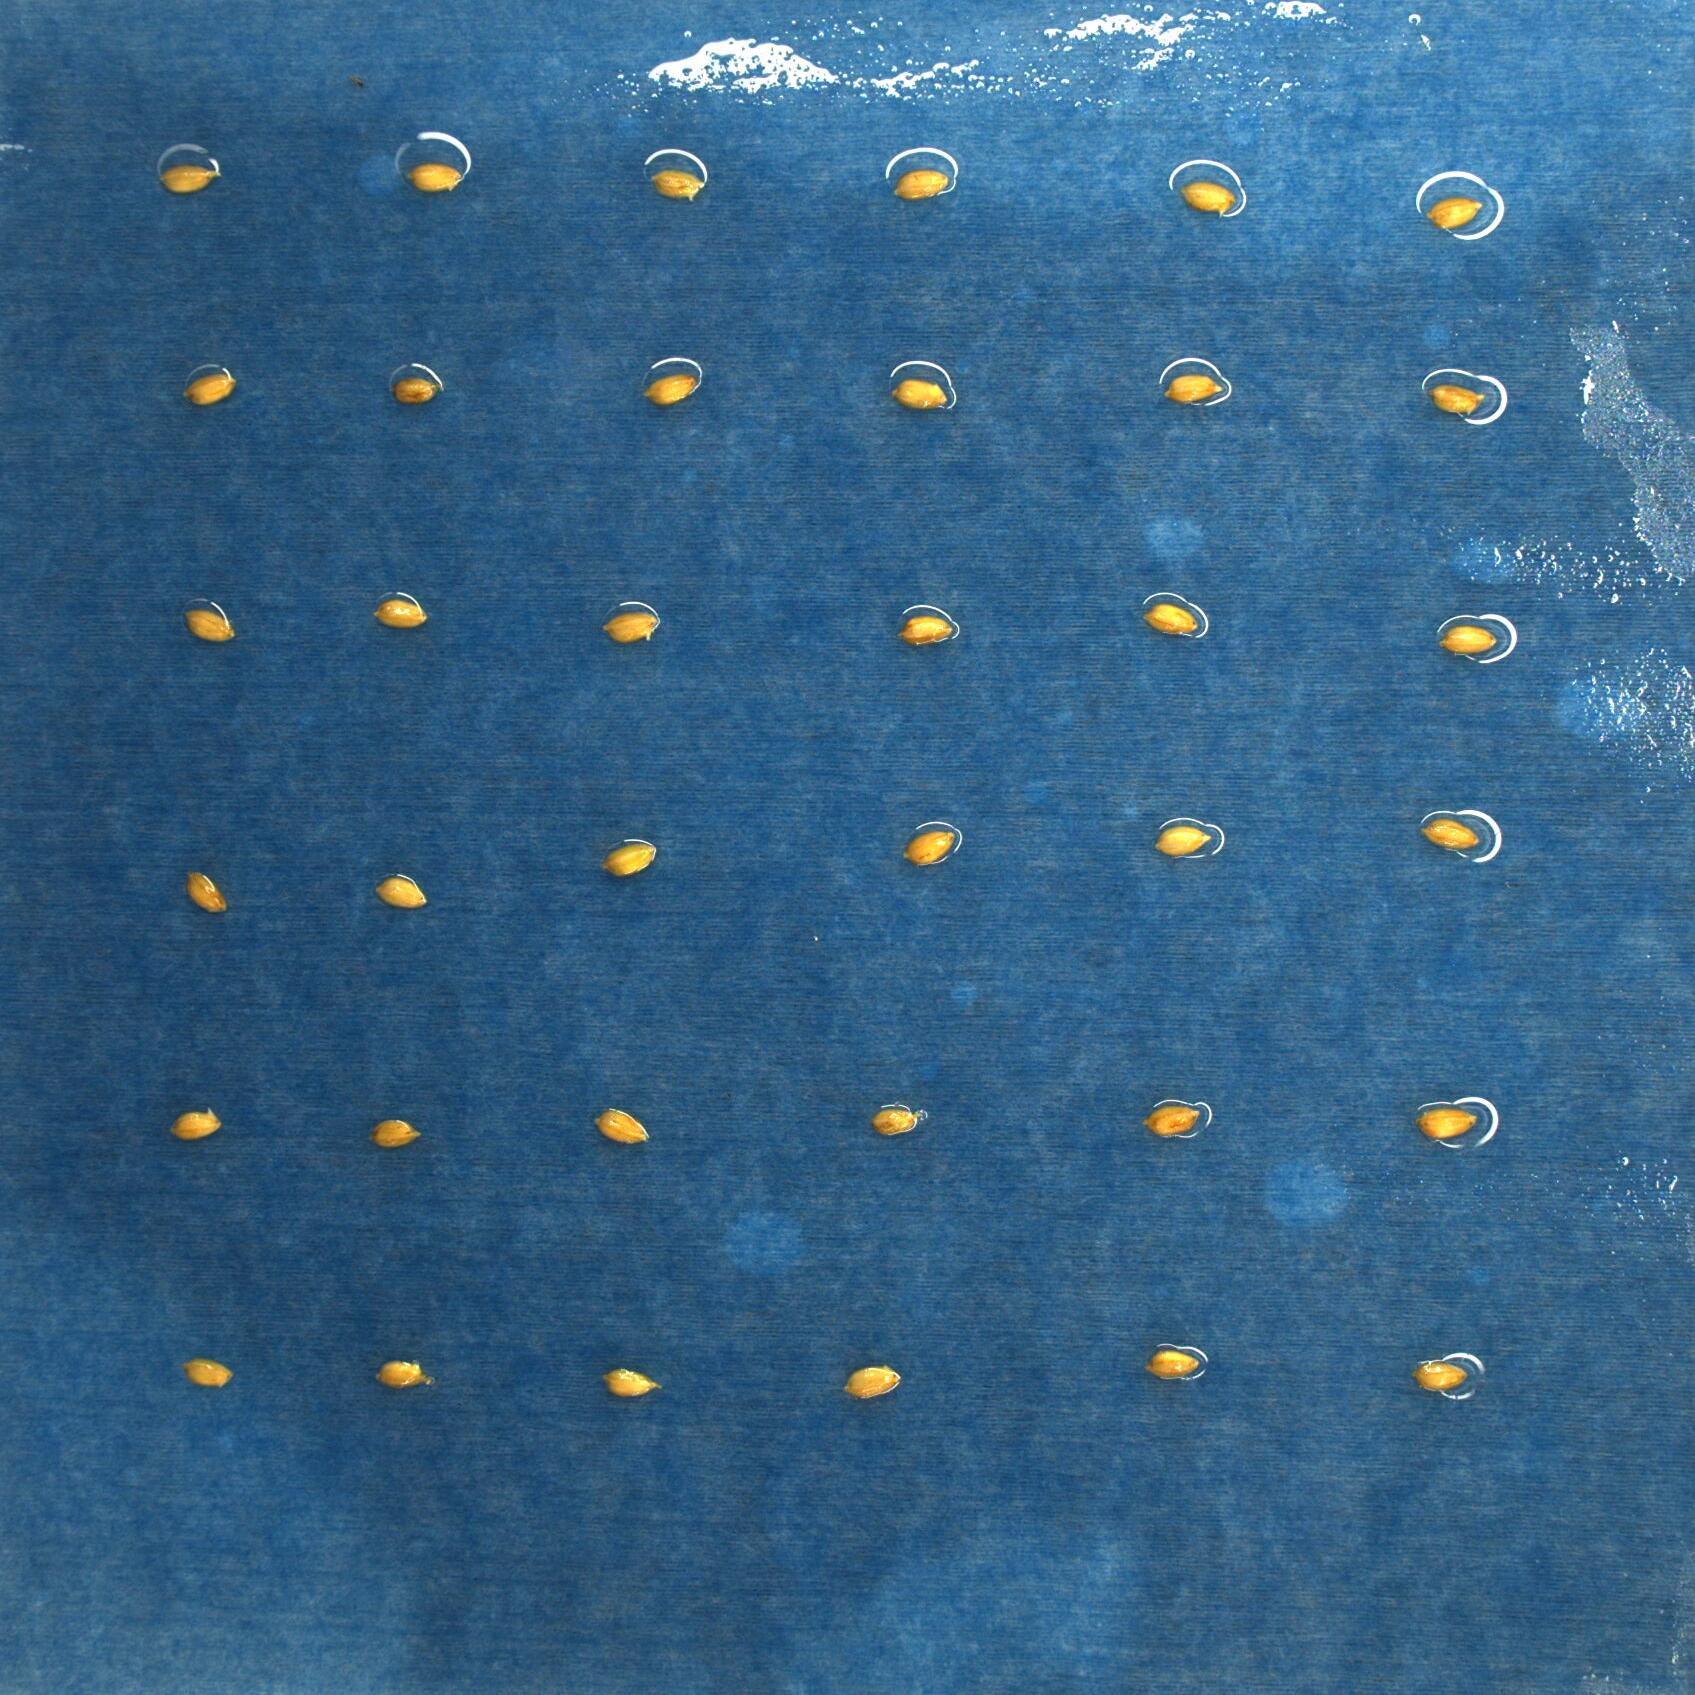not sprout: (588, 1101, 647, 1149), (1416, 1101, 1479, 1142), (591, 604, 657, 644), (1428, 374, 1492, 414), (179, 599, 237, 643), (1141, 1099, 1205, 1138), (400, 158, 469, 192), (840, 1364, 903, 1400), (158, 158, 217, 196), (1420, 813, 1479, 851), (1431, 624, 1498, 657), (886, 376, 947, 411), (896, 829, 956, 865), (374, 1357, 432, 1394), (1161, 377, 1229, 408), (1414, 1357, 1468, 1395), (1139, 604, 1198, 640), (1142, 1343, 1198, 1380), (650, 165, 708, 200), (374, 874, 428, 911), (365, 1114, 422, 1149), (601, 1364, 658, 1399), (188, 868, 230, 914), (1181, 182, 1237, 216), (1425, 192, 1485, 224), (1149, 823, 1212, 852), (640, 371, 697, 404), (369, 594, 428, 626), (899, 612, 955, 644), (598, 843, 653, 875), (893, 171, 953, 200), (388, 376, 441, 407), (869, 1105, 917, 1138), (168, 1108, 217, 1139), (182, 371, 233, 400), (182, 1360, 234, 1388)
